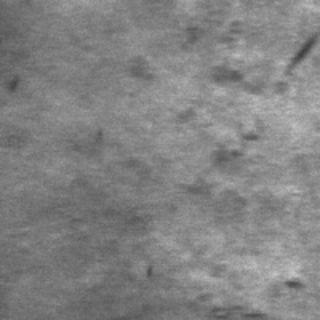rolled pit: (200, 11, 288, 91), (186, 122, 264, 202), (195, 263, 307, 317)
